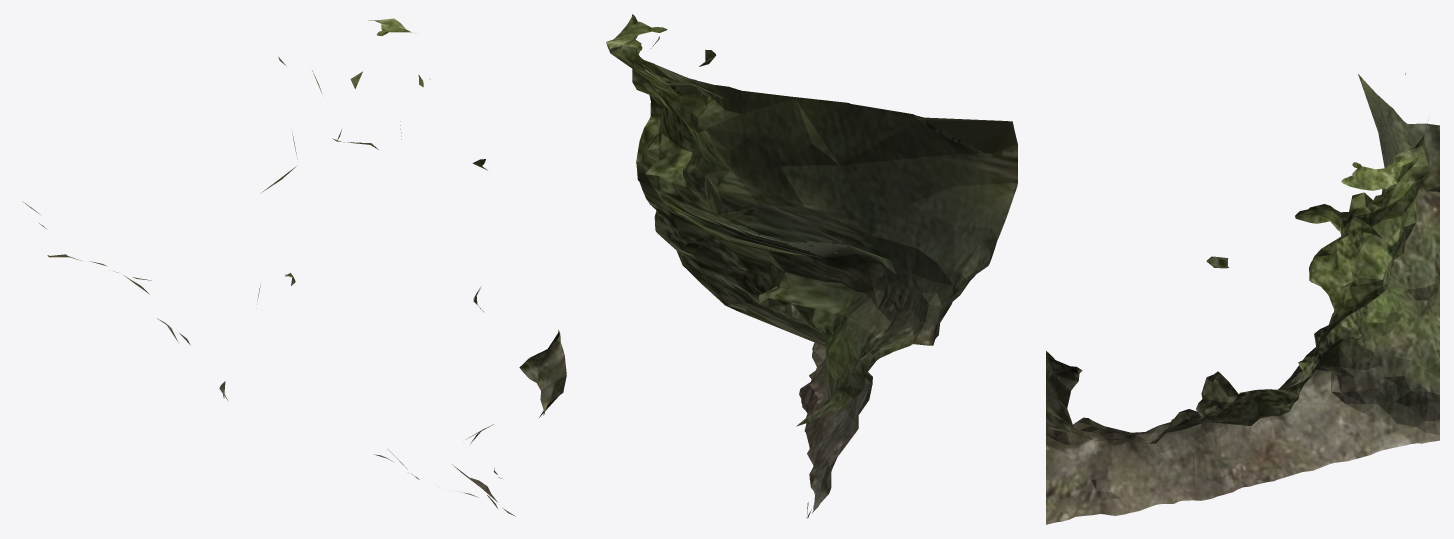
The picture shows the model from 3 angles, left to right: view 1: azimuth 30°, elevation 25°; view 2: azimuth 150°, elevation 25°; view 3: azimuth 270°, elevation 25°; orthographic projection. The views are drawn at different scales.
Size of the model in its own units: 2.95 by 2.95 by 2.95.
3 materials, 3 textured.
